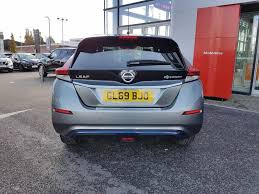licence-plate: (103, 89, 149, 101)
